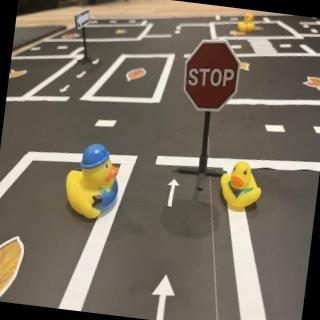duck_regular: (217, 159, 268, 213)
duck_specialty: (62, 140, 126, 225), (238, 13, 258, 35)
road_crosswalk: (244, 35, 284, 61)
road_oneway: (146, 268, 180, 320), (166, 177, 182, 210), (58, 84, 72, 96), (75, 70, 89, 81), (92, 58, 103, 68)
sign_oneway_left: (74, 8, 94, 33)
sign_stop: (182, 36, 244, 115)
